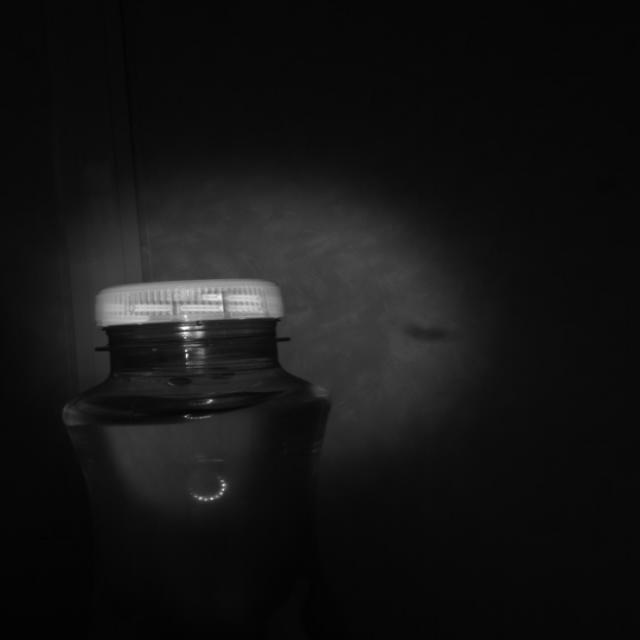Not Good: (95, 277, 286, 352)
